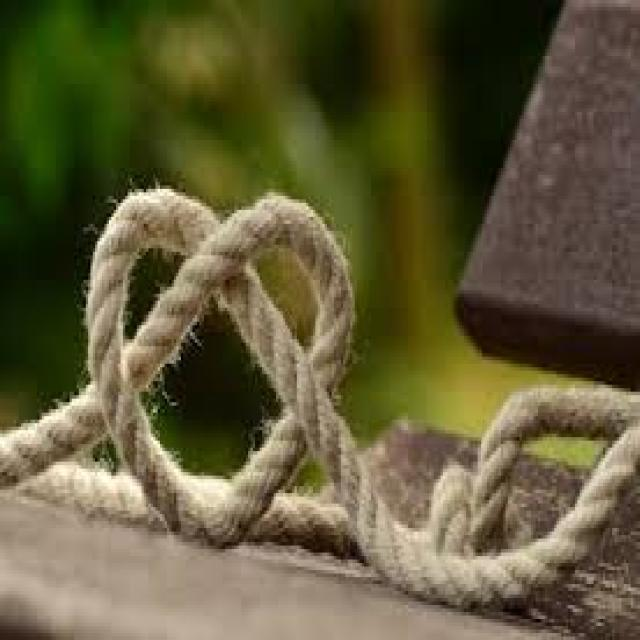Rope: (0, 185, 640, 598)
